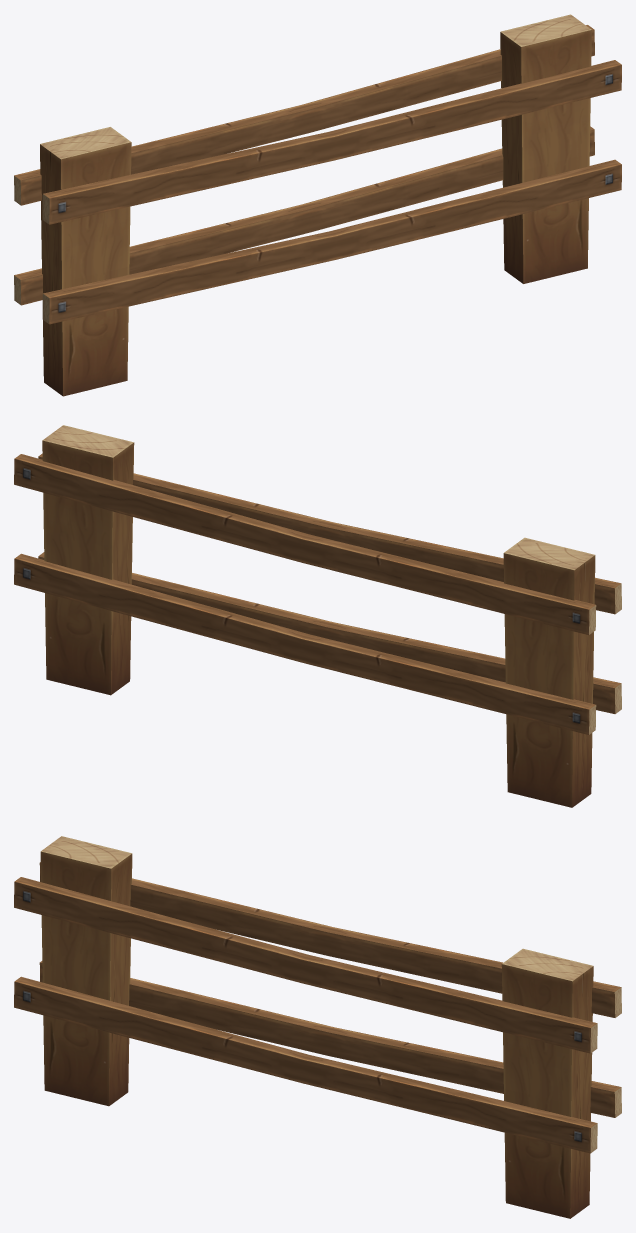
File: wooden_fence_04.fbx
3 renders of one model, top to bottom at view 1: azimuth 30°, elevation 25°; view 2: azimuth 150°, elevation 25°; view 3: azimuth 330°, elevation 25°, orthographic.
Visible parts, largest first — view 1: wooden_fence_04:Mesh; view 2: wooden_fence_04:Mesh; view 3: wooden_fence_04:Mesh.
Part boxes in pixels (box(x1,y1,x2,y2)): wooden_fence_04:Mesh: box(14, 14, 621, 396); wooden_fence_04:Mesh: box(14, 425, 621, 807); wooden_fence_04:Mesh: box(14, 836, 621, 1218).
Size of the model in its own units: 7 by 2.77 by 0.7148.
